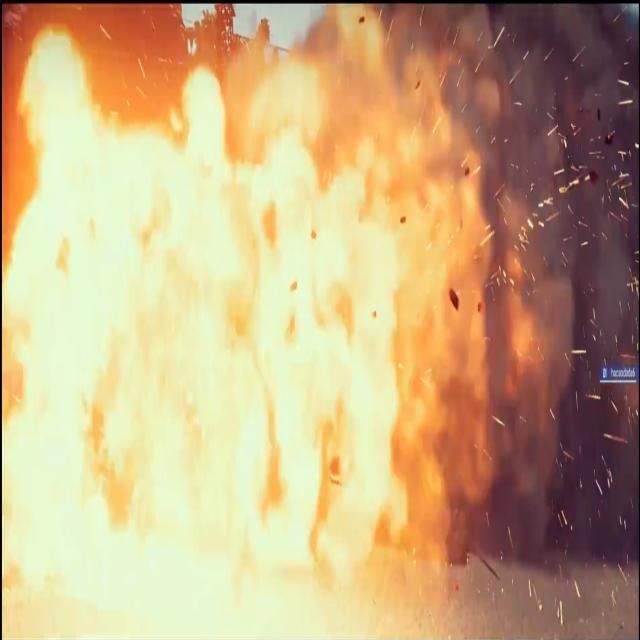fire: (2, 2, 598, 640)
